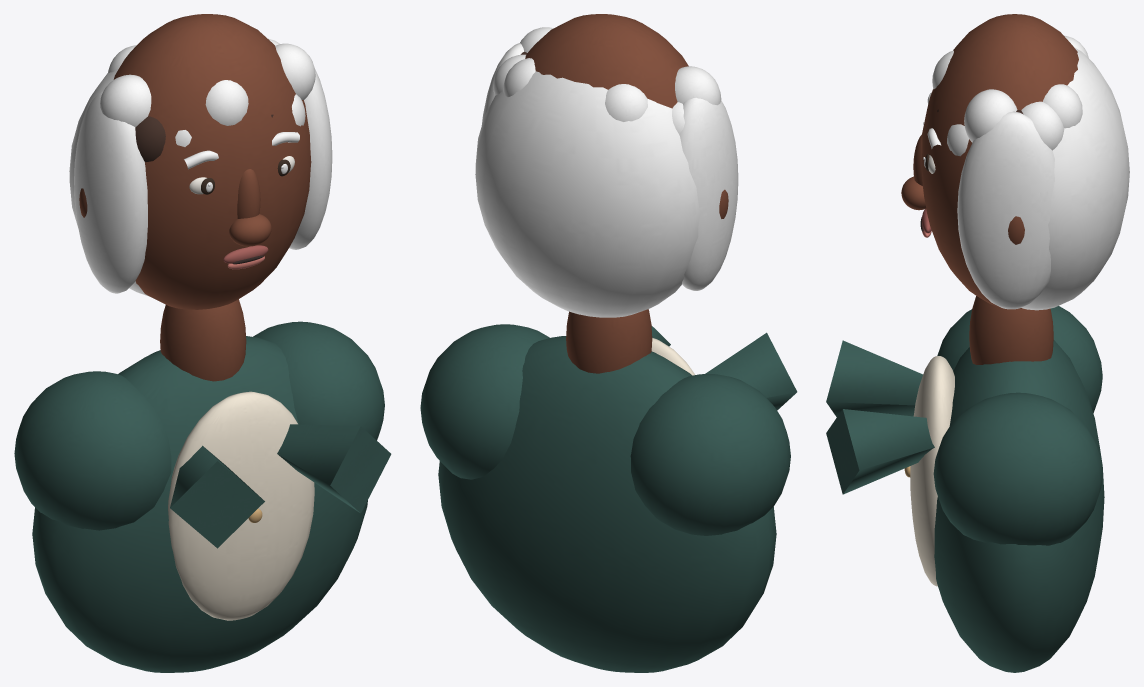
File: amara.glb
3 renders of one model, left to right at view 1: azimuth 30°, elevation 25°; view 2: azimuth 150°, elevation 25°; view 3: azimuth 270°, elevation 25°, orthographic.
Visible parts, largest first — view 1: Body, Face, Head, MouthAnimation; view 2: Body, Head, Face; view 3: Body, Head, Face.
Boxes of the visible parts, left/top/right/bottom form: Body: left=14, top=299, right=391, bottom=672; Face: left=113, top=14, right=311, bottom=309; Head: left=69, top=38, right=332, bottom=296; MouthAnimation: left=223, top=245, right=268, bottom=269; Body: left=420, top=309, right=797, bottom=672; Head: left=475, top=27, right=738, bottom=317; Face: left=525, top=14, right=688, bottom=108; Body: left=826, top=296, right=1104, bottom=672; Head: left=901, top=35, right=1129, bottom=310; Face: left=921, top=14, right=1078, bottom=308.
Bounding box in the file's own units: 2.32 × 4.13 × 1.8.
Materials: 17 (17 with a texture image).
